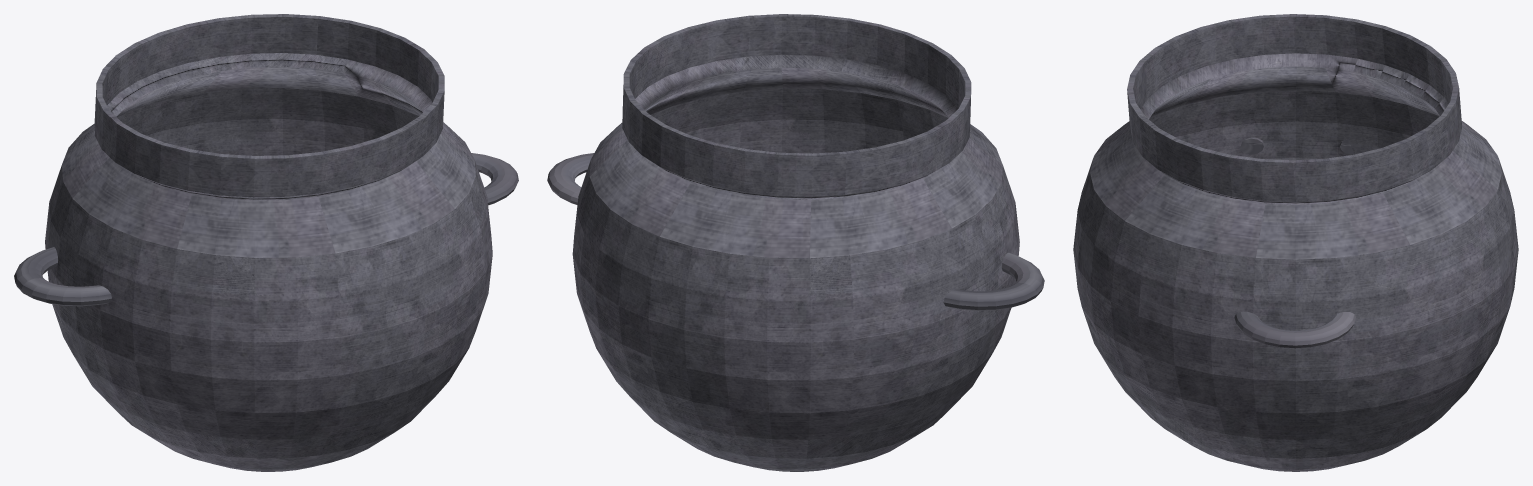
File: cauldron.fbx
3 renders of one model, left to right at view 1: azimuth 30°, elevation 25°; view 2: azimuth 150°, elevation 25°; view 3: azimuth 270°, elevation 25°, orthographic.
Visible parts, largest first — view 1: Cauldron, cauldron handles; view 2: Cauldron, cauldron handles; view 3: Cauldron, cauldron handles.
Boxes of the visible parts, left/top/right/bottom form: Cauldron: left=45, top=14, right=492, bottom=471; cauldron handles: left=14, top=153, right=518, bottom=306; Cauldron: left=572, top=14, right=1019, bottom=471; cauldron handles: left=547, top=153, right=1044, bottom=310; Cauldron: left=1073, top=14, right=1518, bottom=471; cauldron handles: left=1234, top=137, right=1355, bottom=348.
Size of the model in its own units: 141 by 97.47 by 113.
1 material, 1 textured.
